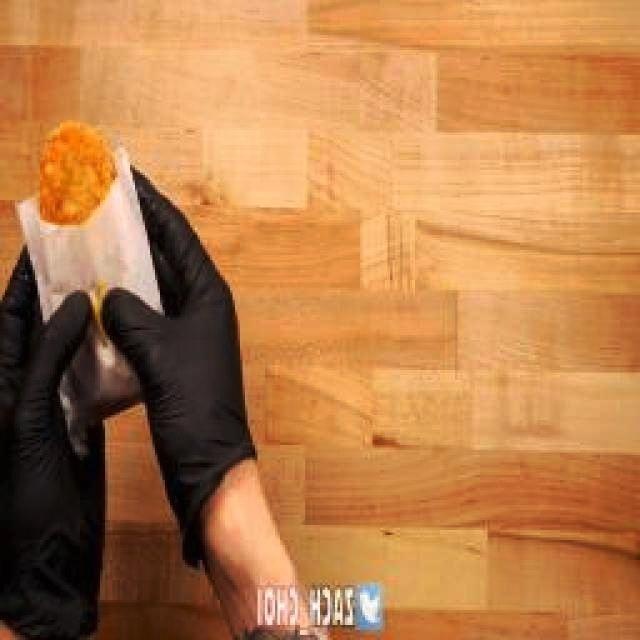Hashbrown: (36, 121, 112, 222)
